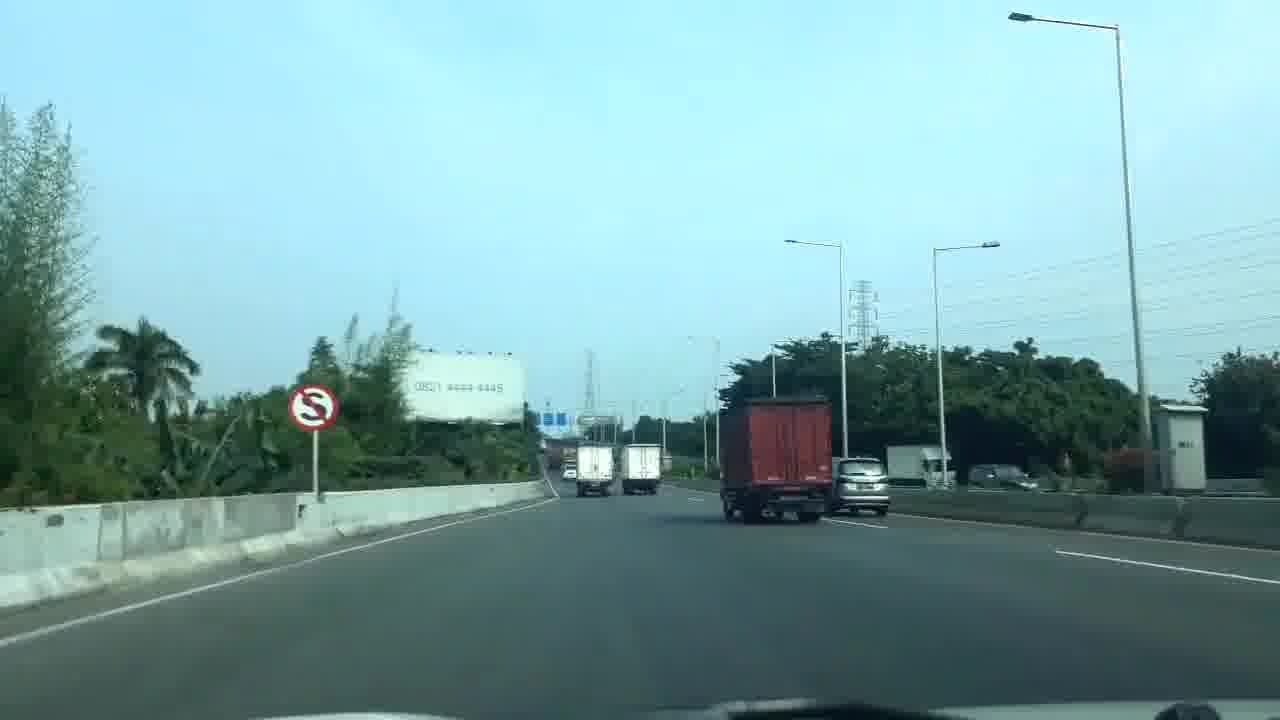plate_positive: (856, 483, 873, 489)
